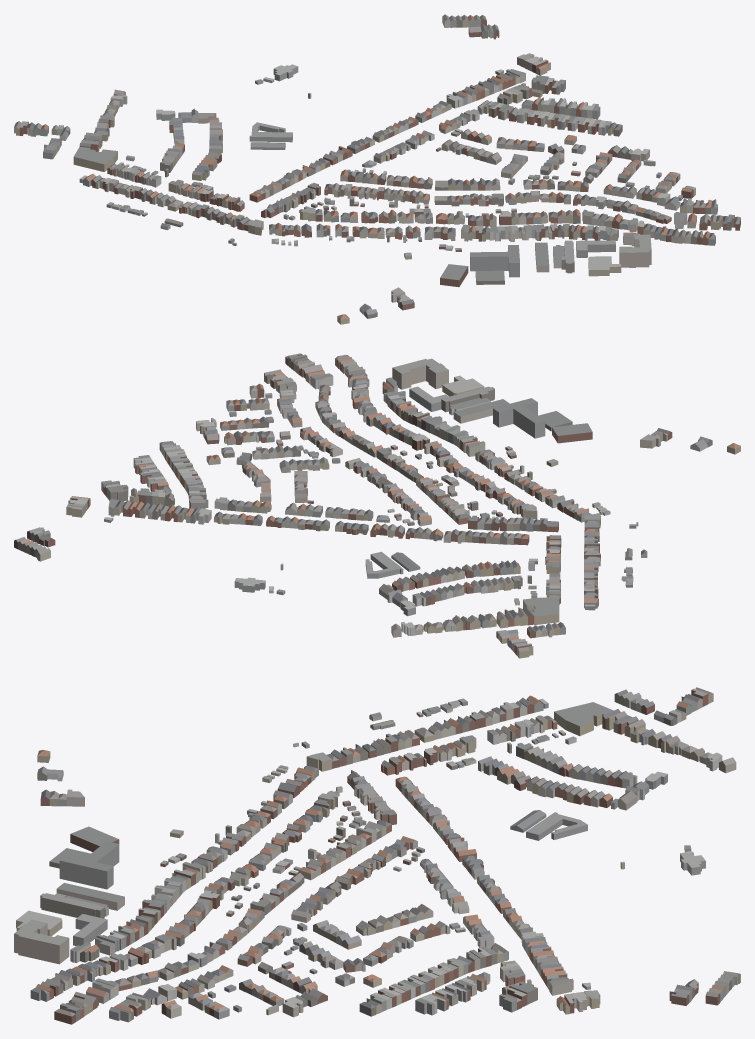
3 views of the same model, one above another, from view 1: azimuth 30°, elevation 25°; view 2: azimuth 150°, elevation 25°; view 3: azimuth 270°, elevation 25° (orthographic). The views are drawn at different scales.
Parts seen in each view (by area): view 1: way/191605820, way/191605816, way/264225510, way/368374766, way/537018531, way/537018530, way/609500824; view 2: way/191605820, way/191605816, way/264225510, way/368374766, way/609500824, way/191605818, way/191605815, way/537018531, way/537018530; view 3: way/191605820, way/191605816, way/264225510, way/191605815, way/368374766, way/191605818, way/537018530, way/609500824, way/537018531.
Part boxes in pixels (x1,y1,x2,y2): way/191605820: (470, 245, 519, 277); way/191605816: (619, 234, 651, 267); way/264225510: (73, 147, 117, 171); way/368374766: (249, 122, 292, 142); way/537018531: (588, 256, 621, 276); way/537018530: (576, 240, 615, 257); way/609500824: (440, 264, 468, 287); way/191605820: (493, 398, 545, 438); way/191605816: (392, 358, 448, 389); way/264225510: (523, 597, 559, 625); way/368374766: (365, 551, 403, 578); way/609500824: (552, 423, 592, 443); way/191605818: (453, 399, 509, 423); way/191605815: (441, 386, 494, 412); way/537018531: (442, 375, 484, 396); way/537018530: (409, 386, 448, 411); way/191605820: (59, 841, 119, 889); way/191605816: (14, 919, 69, 964); way/264225510: (554, 702, 613, 735); way/191605815: (40, 893, 104, 918); way/368374766: (526, 812, 587, 840); way/191605818: (56, 883, 124, 910); way/537018530: (73, 914, 107, 945); way/609500824: (70, 826, 119, 851); way/537018531: (16, 910, 62, 936).
Size of the model in its own units: 511 by 33.16 by 524.
